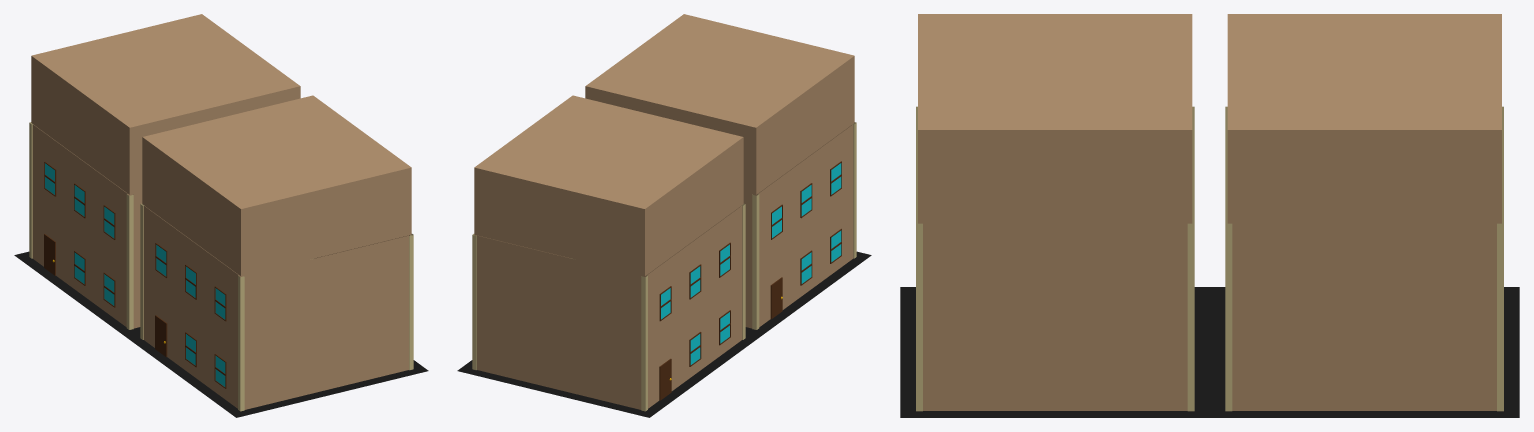
File: Buildings6.fbx
The picture shows the model from 3 angles, left to right: view 1: azimuth 30°, elevation 25°; view 2: azimuth 150°, elevation 25°; view 3: azimuth 270°, elevation 25°; orthographic projection. The views are drawn at different scales.
Visible parts, largest first — view 1: Buildings 2.003; view 2: Buildings 2.003; view 3: Buildings 2.003.
Boxes of the visible parts, x1,y1,x2,y2 form: Buildings 2.003: (14,14,428,417); Buildings 2.003: (457,14,871,417); Buildings 2.003: (900,14,1519,417).
Size of the model in its own units: 3000 by 1500 by 1500.
